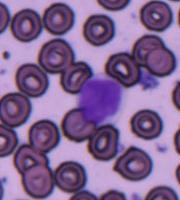L: (76, 73, 124, 126)
